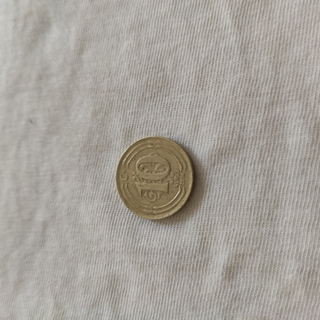10KURUS: (113, 134, 195, 221)
